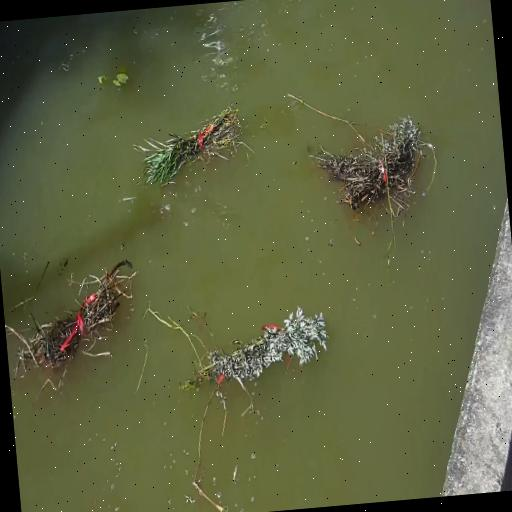twig: (6, 240, 140, 384), (184, 290, 338, 412), (310, 98, 432, 222), (128, 104, 250, 191), (94, 67, 127, 95)
